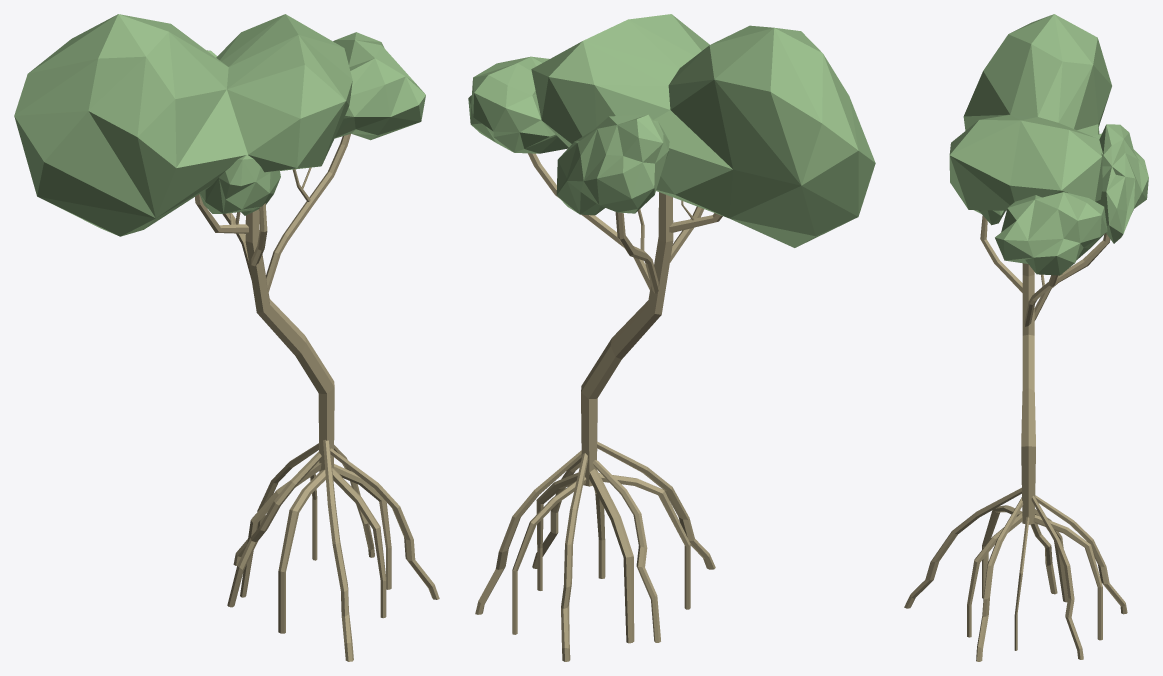
The model's file is Mangrove.fbx.
3 views of the same model, side by side, from view 1: azimuth 30°, elevation 25°; view 2: azimuth 150°, elevation 25°; view 3: azimuth 270°, elevation 25° (orthographic). The views are drawn at different scales.
Visible parts, largest first — view 1: Mangrove; view 2: Mangrove; view 3: Mangrove.
Part boxes in pixels (x1=…): Mangrove: x1=14, y1=14, x2=439, y2=661; Mangrove: x1=468, y1=14, x2=875, y2=661; Mangrove: x1=904, y1=14, x2=1148, y2=661.
Bounding box in the file's own units: 239 × 366 × 153.
1 material, 1 textured.
